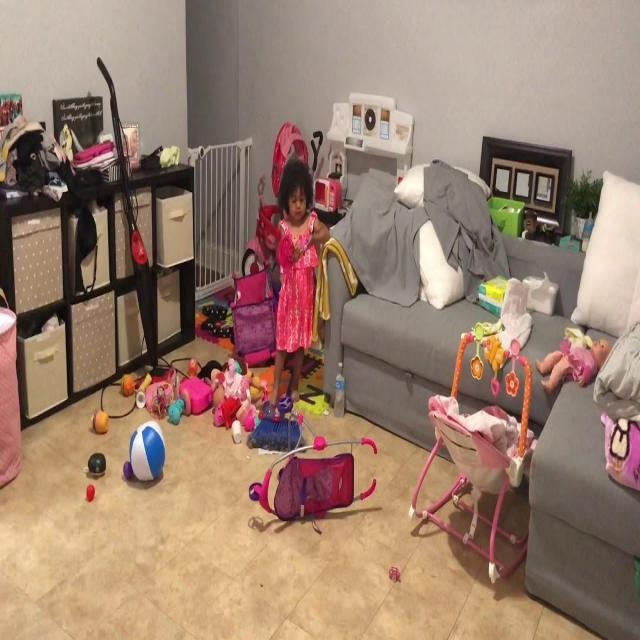couch: (313, 159, 640, 640), (457, 341, 526, 423), (437, 442, 455, 465), (514, 475, 529, 497), (494, 385, 496, 392)
